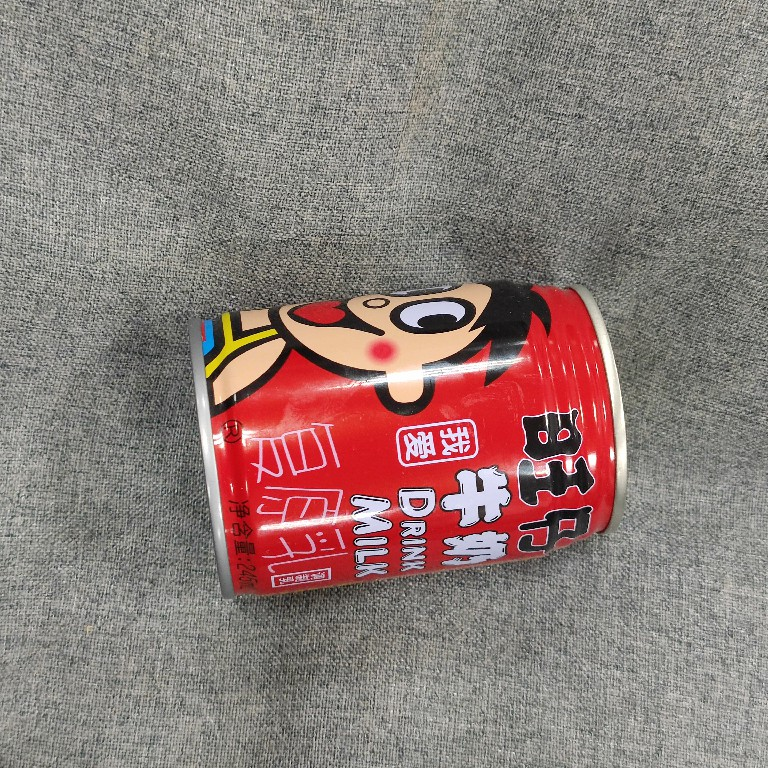can: (183, 280, 632, 601)
